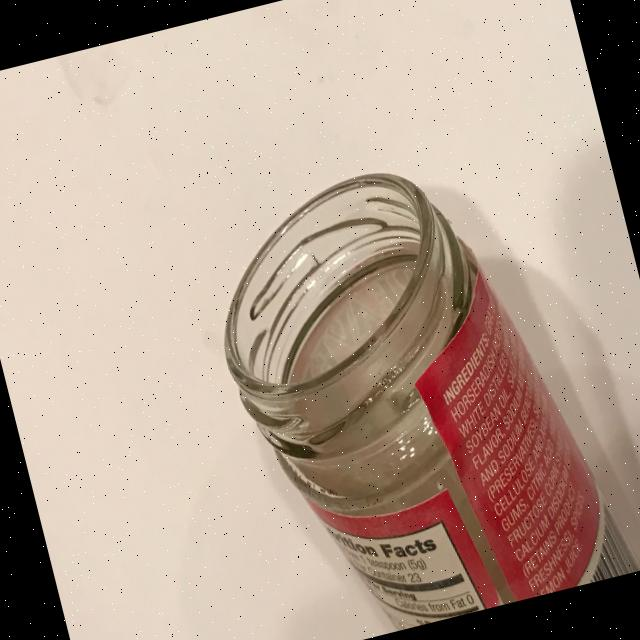glass: (189, 129, 640, 640)
